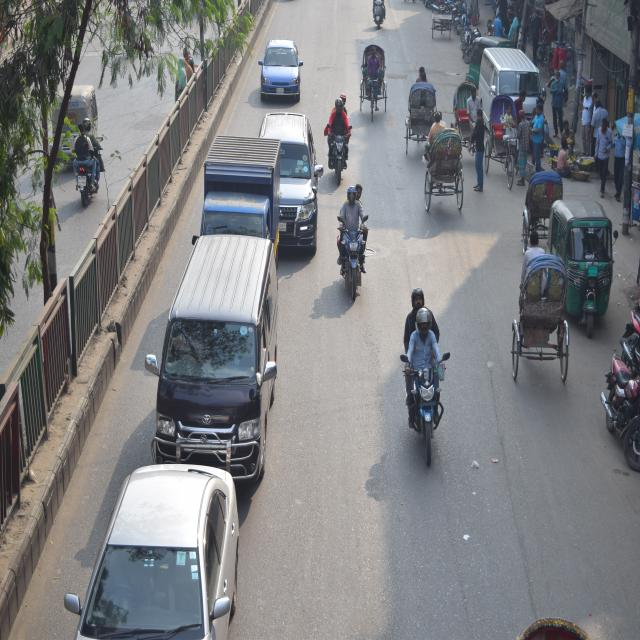car: (86, 463, 212, 640), (243, 103, 325, 256), (257, 33, 302, 104)
microbus: (156, 234, 277, 471), (479, 31, 562, 165)
motorbike: (407, 281, 461, 436), (343, 171, 382, 288), (67, 117, 107, 202), (331, 80, 349, 179)
pickup-van: (195, 112, 273, 257)
